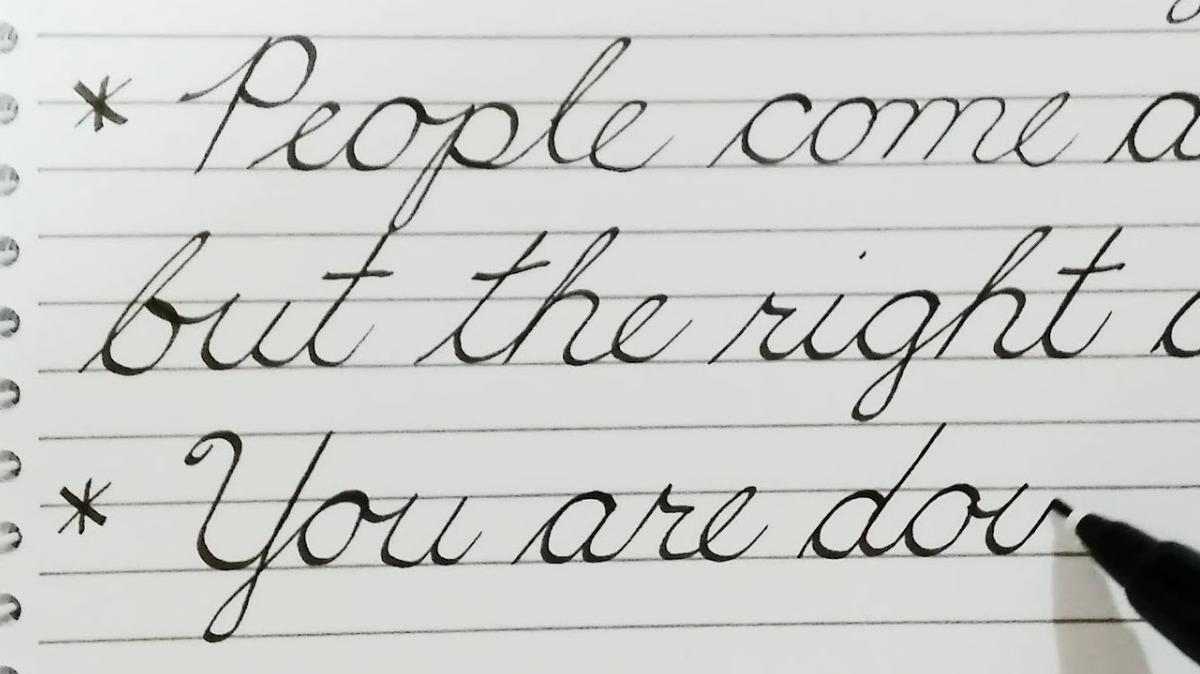text: (73, 219, 1200, 425), (69, 27, 1200, 231), (51, 419, 1056, 646), (1163, 0, 1200, 27)
